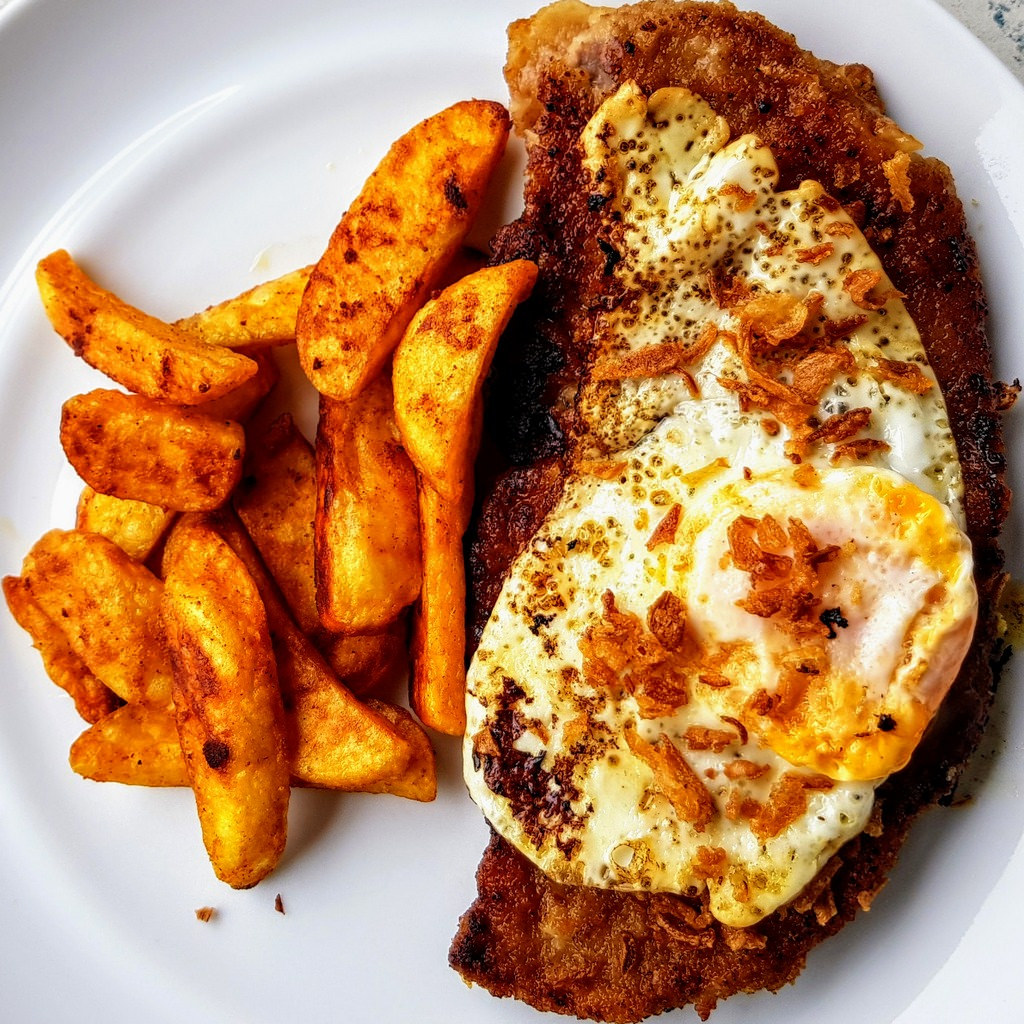fried egg: (578, 107, 958, 894)
